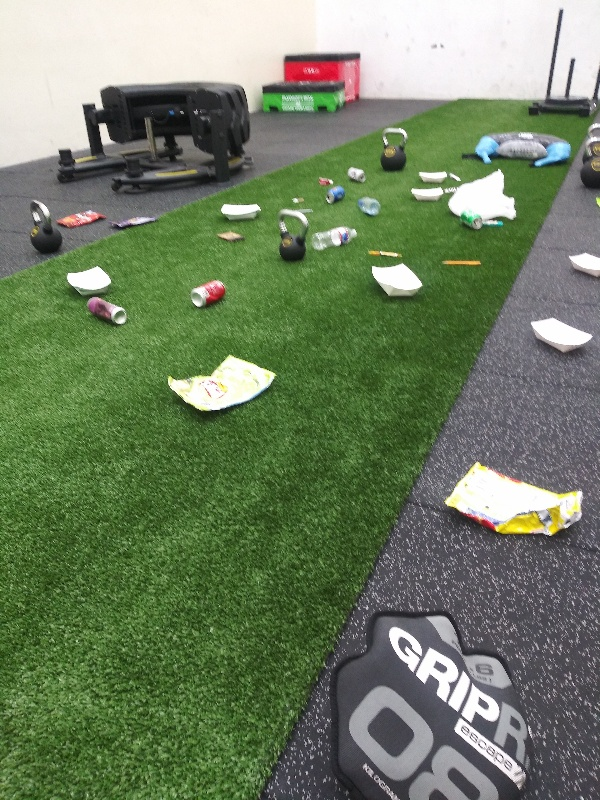bag: (438, 458, 589, 542), (163, 351, 281, 416), (54, 204, 109, 230), (111, 213, 162, 231)
bottle: (306, 225, 358, 252), (353, 193, 383, 219)
can: (83, 296, 130, 326), (187, 280, 229, 308), (456, 208, 484, 234), (322, 184, 348, 207), (343, 165, 369, 183)
plate: (525, 314, 592, 356), (363, 263, 426, 301), (61, 262, 117, 297), (562, 251, 600, 281), (215, 199, 263, 221), (406, 186, 444, 205), (415, 168, 451, 187)
